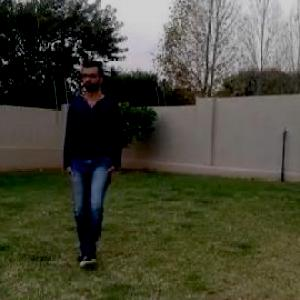follow: (62, 50, 117, 266)
